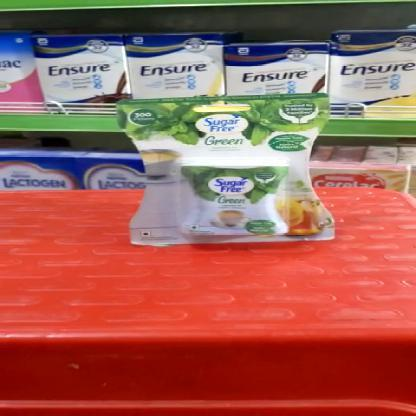SUGAR FREE GRN 300 PELLET: (124, 92, 335, 244)
